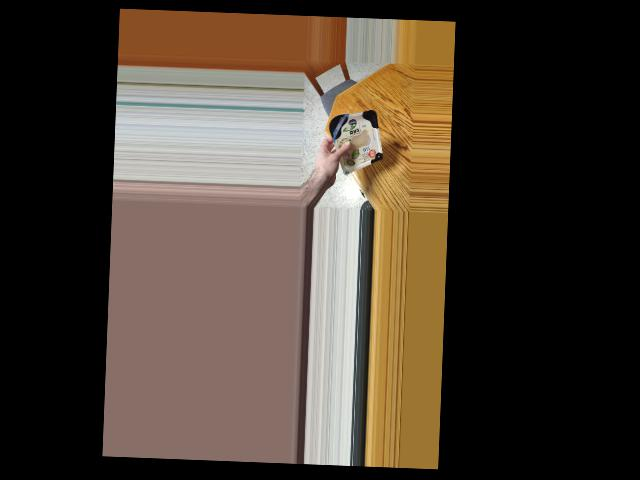cheese: (329, 110, 383, 165)
